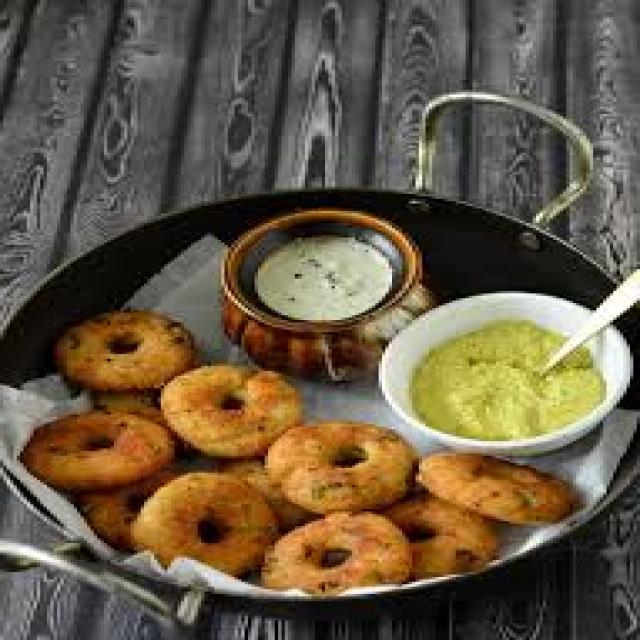MEDU VADA: (136, 471, 280, 577), (265, 418, 420, 513), (260, 509, 411, 599), (413, 453, 585, 530), (158, 364, 302, 455), (18, 411, 171, 485), (55, 309, 198, 386), (382, 496, 499, 572)
